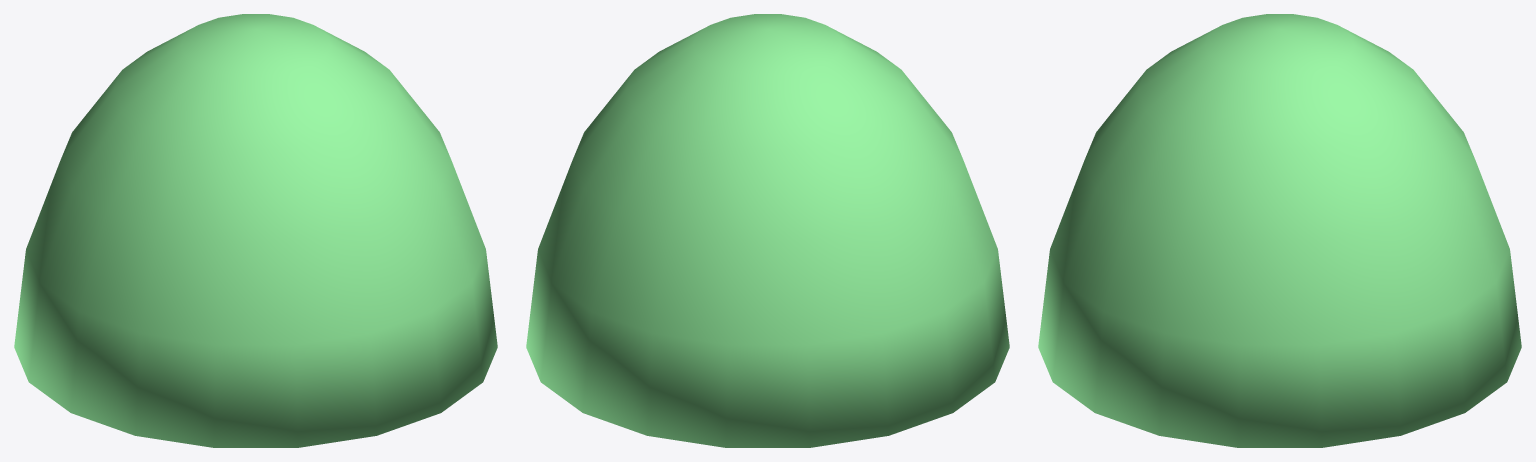
File: candy_gumdrop_green.glb
3 views of the same model, side by side, from view 1: azimuth 30°, elevation 25°; view 2: azimuth 150°, elevation 25°; view 3: azimuth 270°, elevation 25° (orthographic).
Visible parts, largest first — view 1: candy_gumdrop_green; view 2: candy_gumdrop_green; view 3: candy_gumdrop_green.
Boxes of the visible parts, <box> form: candy_gumdrop_green: <box>14,14,497,447</box>; candy_gumdrop_green: <box>526,14,1009,447</box>; candy_gumdrop_green: <box>1038,14,1521,447</box>.
Size of the model in its own units: 3.55 by 2.61 by 3.6.
